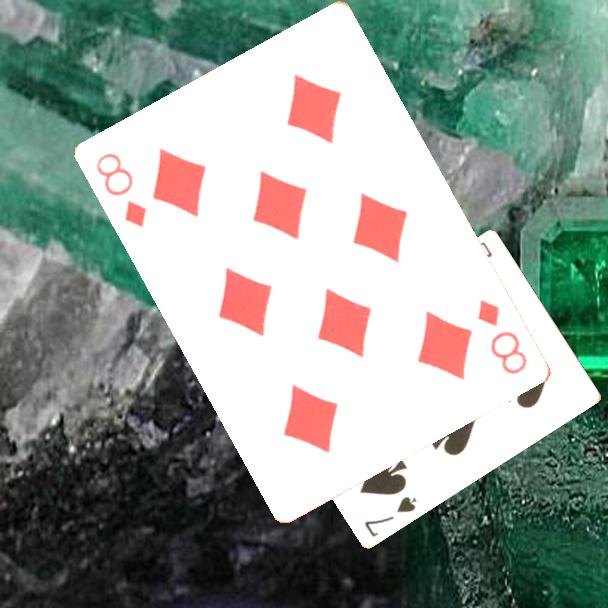d08: (474, 295, 531, 378), (93, 149, 150, 231)
s07: (361, 492, 420, 540)
